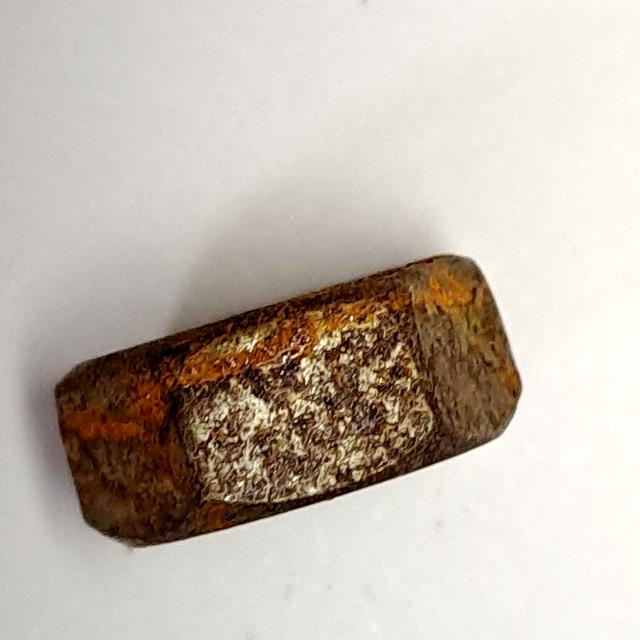Side_Rust: (42, 239, 536, 562)
